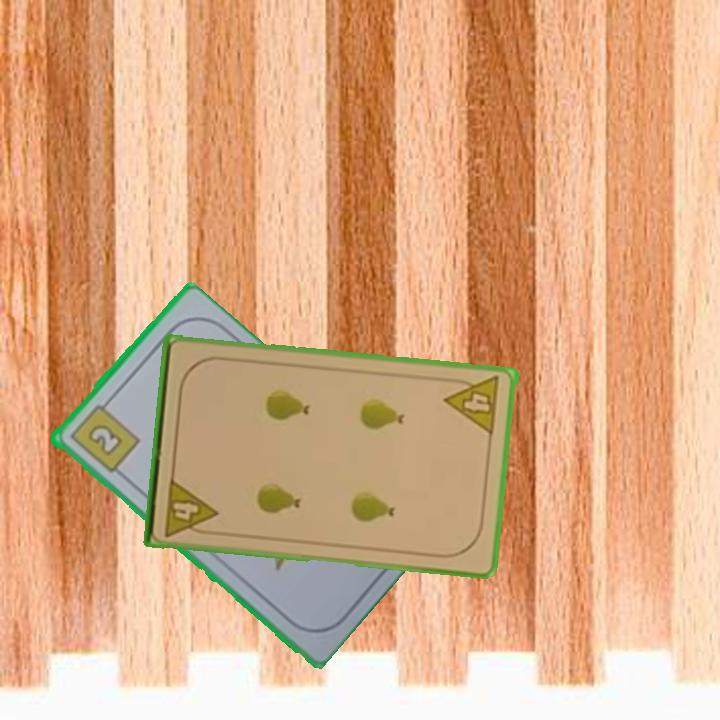2b: (65, 396, 142, 476)
4p: (442, 373, 503, 438), (161, 474, 220, 540)
